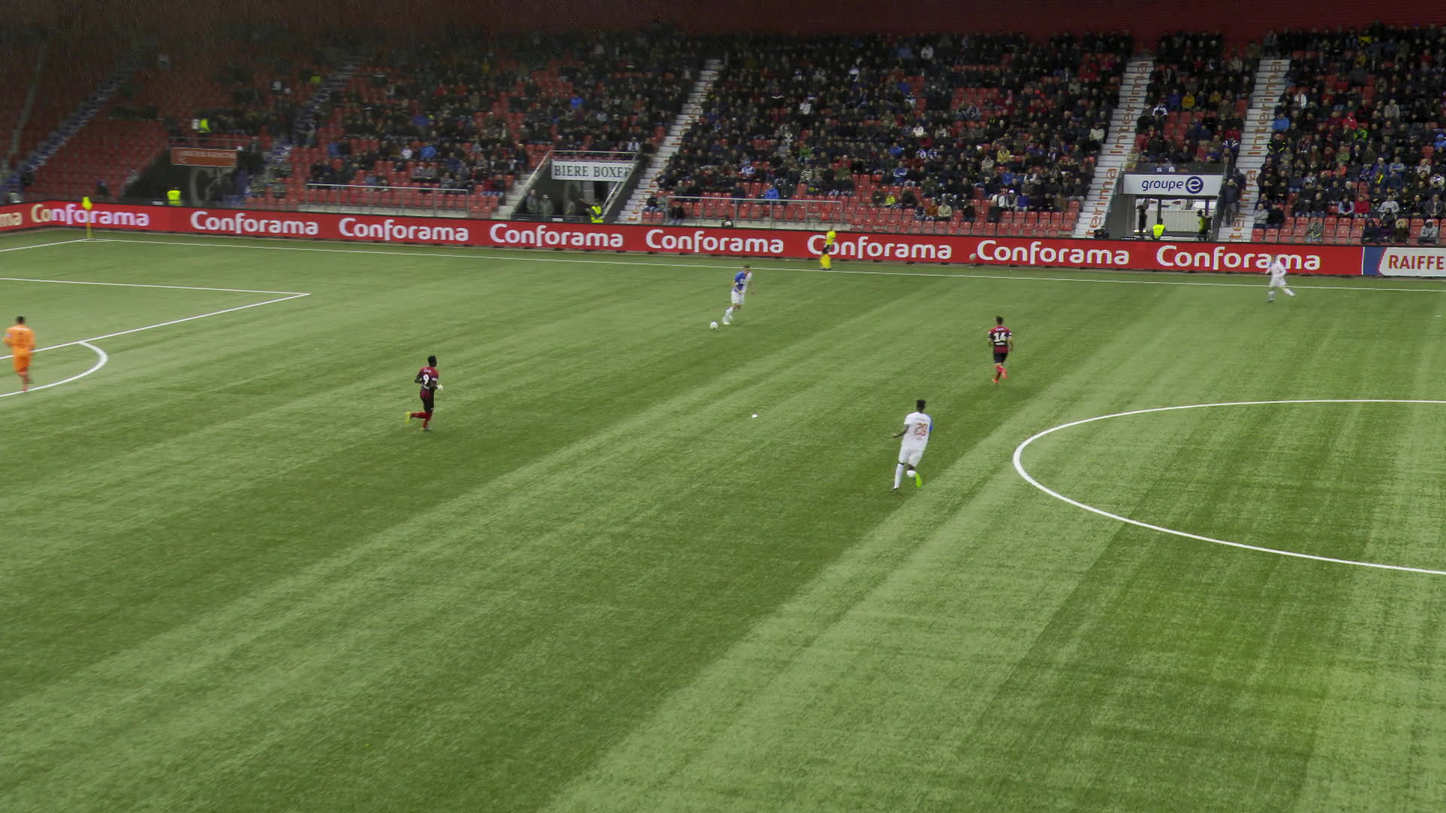ball: (709, 321, 717, 329)
player: (893, 398, 936, 498), (400, 352, 443, 434), (2, 315, 36, 392), (987, 318, 1015, 388), (726, 265, 758, 324), (1268, 255, 1292, 304)
referee: (817, 224, 837, 269)
